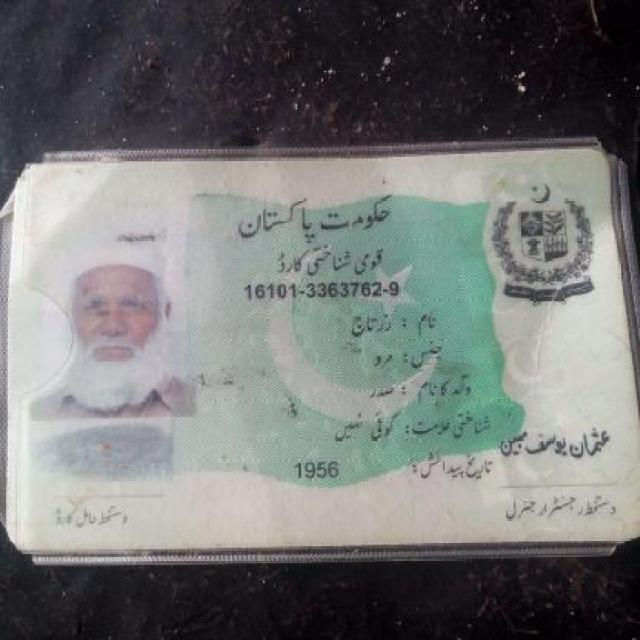Front: (5, 146, 629, 559)
